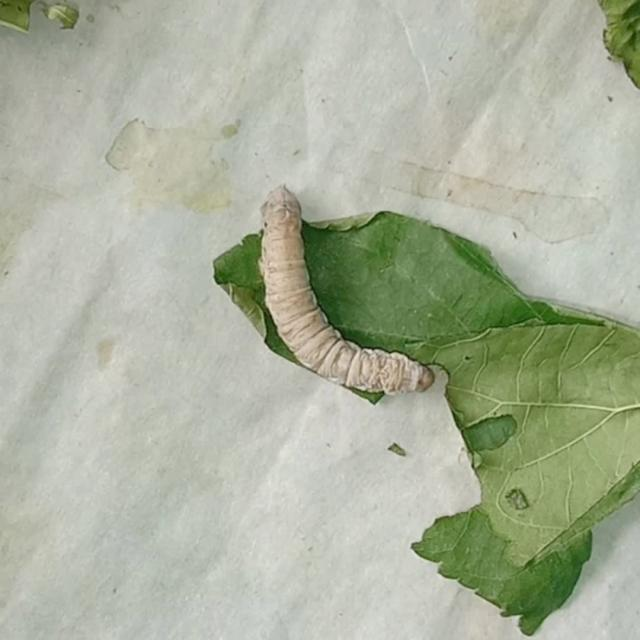Grasserie: (211, 152, 454, 446)
